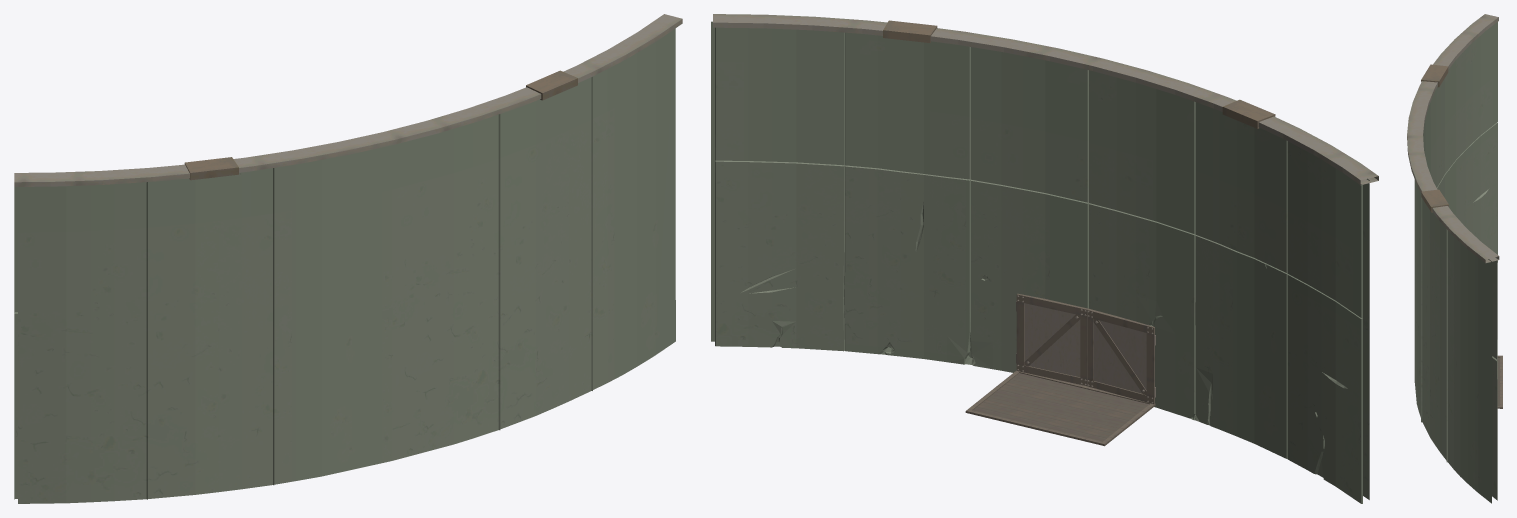
Rendered from SM_ENV_TCHEXA_ArenaWall_C.fbx.
The picture shows the model from 3 angles, left to right: view 1: azimuth 30°, elevation 25°; view 2: azimuth 150°, elevation 25°; view 3: azimuth 270°, elevation 25°; orthographic projection. The views are drawn at different scales.
Parts seen in each view (by area): view 1: SM_ENV_TCHEXA_ArenaWall_C.mo; view 2: SM_ENV_TCHEXA_ArenaWall_C.mo; view 3: SM_ENV_TCHEXA_ArenaWall_C.mo.
Boxes of the visible parts, left/top/right/bottom form: SM_ENV_TCHEXA_ArenaWall_C.mo: left=14, top=14, right=682, bottom=503; SM_ENV_TCHEXA_ArenaWall_C.mo: left=711, top=14, right=1378, bottom=503; SM_ENV_TCHEXA_ArenaWall_C.mo: left=1407, top=14, right=1502, bottom=503.
Size of the model in its own units: 6451 by 3036 by 1064.
